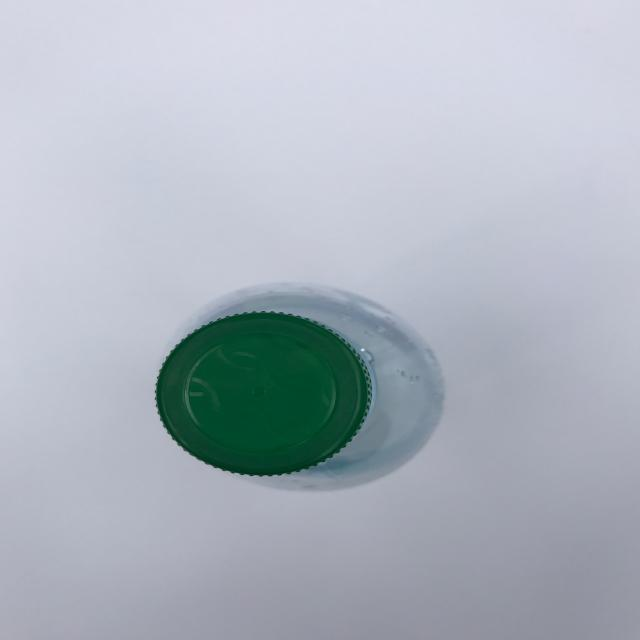plastic: (153, 281, 445, 490)
